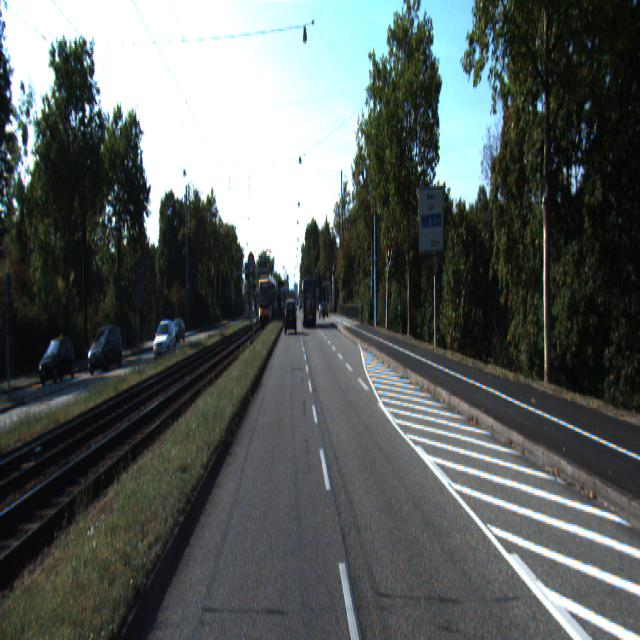Car: (37, 339, 79, 388), (87, 325, 123, 378), (153, 320, 178, 363), (301, 278, 317, 328), (285, 298, 297, 332)
